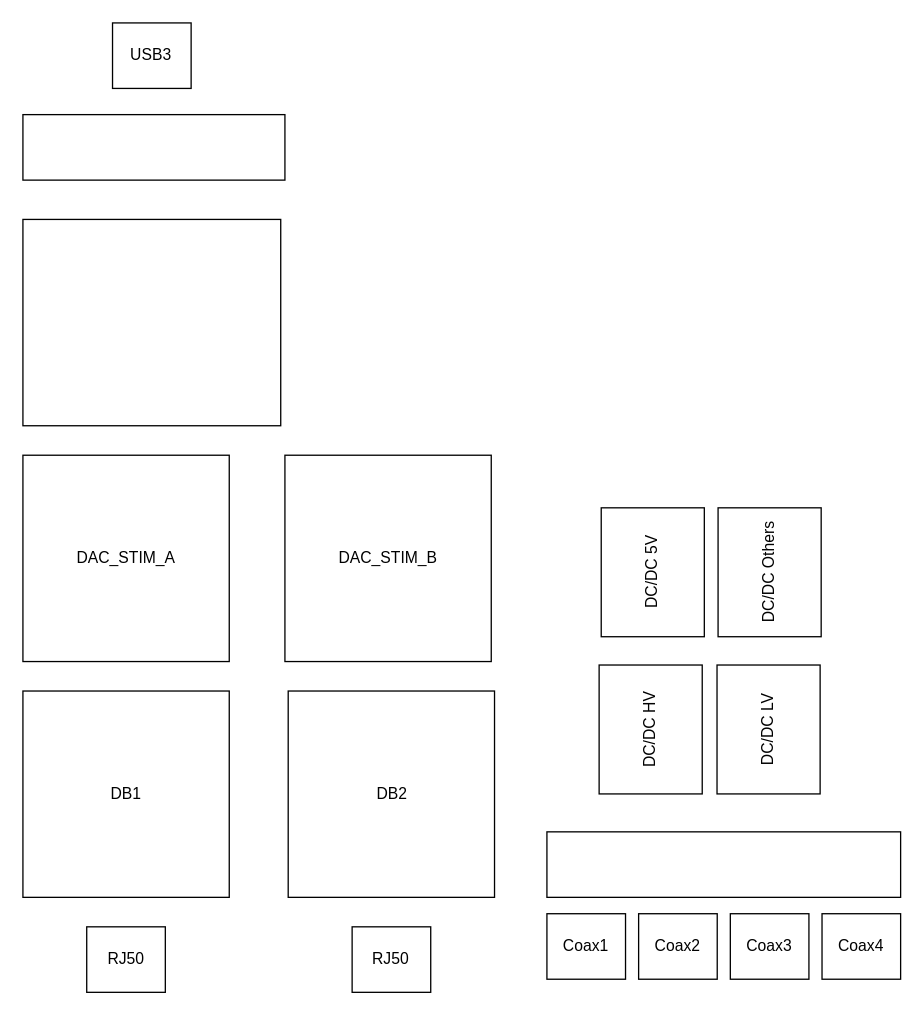
Image size: 924x1015. Some labels were removed from this diagram. The centre of each missing label's shape, as x and y in pixels:
FPGA: (151,322)
Triggers: (723,864)
USB Interface: (153,146)
